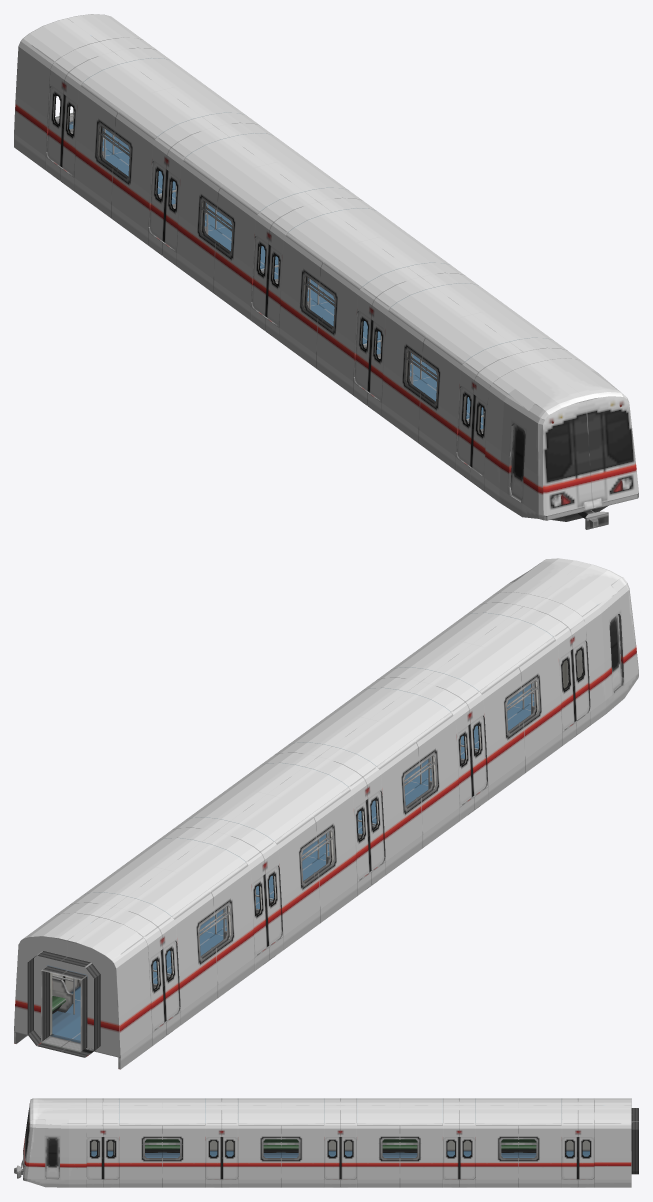
3 renders of one model, top to bottom at view 1: azimuth 30°, elevation 25°; view 2: azimuth 150°, elevation 25°; view 3: azimuth 270°, elevation 25°, orthographic. The views are drawn at different scales.
Parts seen in each view (by area): view 1: window_exterior, head_exterior, end_exterior, window, door_right_negative_exterior, door_right_positive_exterior; view 2: window_exterior, end_exterior, head_exterior, window, door_right_positive_exterior, door_right_negative_exterior, end; view 3: window_exterior, head_exterior, end_exterior, door_left_positive_exterior, window, door_left_negative_exterior, door_right_negative, door_right_positive.
Boxes of the visible parts, x1,y1,x2,y2 form: window_exterior: (60, 47, 566, 480); head_exterior: (470, 348, 638, 529); end_exterior: (14, 14, 156, 180); window: (81, 84, 484, 433); door_right_negative_exterior: (47, 86, 474, 466); door_right_positive_exterior: (61, 95, 487, 475); window_exterior: (70, 602, 576, 1035); end_exterior: (14, 902, 166, 1069); head_exterior: (479, 558, 638, 735); window: (69, 639, 555, 1000); door_right_positive_exterior: (162, 640, 589, 1020); door_right_negative_exterior: (149, 650, 575, 1029); end: (41, 937, 143, 1052); window_exterior: (103, 1098, 577, 1187); head_exterior: (14, 1098, 102, 1187); end_exterior: (578, 1098, 638, 1187); door_left_positive_exterior: (86, 1137, 577, 1179); window: (107, 1124, 573, 1158); door_left_negative_exterior: (103, 1137, 594, 1179); door_right_negative: (107, 1140, 589, 1150); door_right_positive: (91, 1140, 573, 1150).
Bounding box in the file's own units: 3 × 3.38 × 26.31.
Materials: 2 (2 with a texture image).
